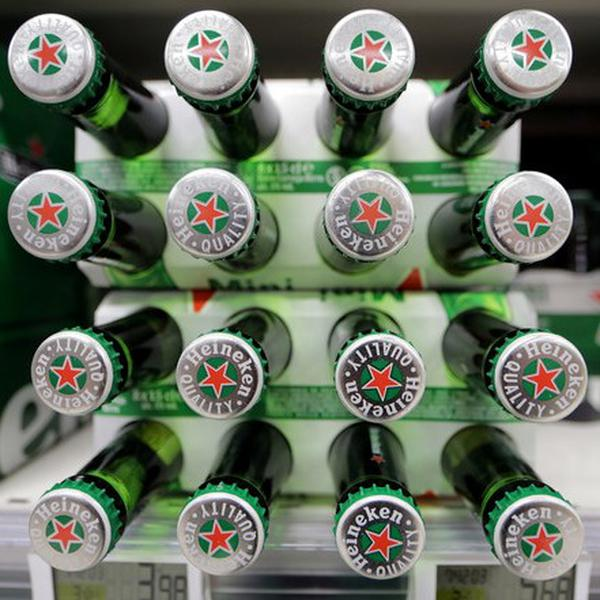heineken: (161, 7, 259, 107), (330, 485, 427, 585), (160, 165, 257, 263), (320, 9, 418, 106), (4, 10, 103, 106), (491, 330, 588, 427), (482, 169, 576, 268), (6, 168, 100, 266), (480, 4, 573, 103), (491, 491, 586, 587), (331, 330, 427, 425), (169, 488, 265, 582), (320, 166, 415, 260), (170, 328, 264, 422), (21, 485, 112, 578), (24, 325, 110, 418)
